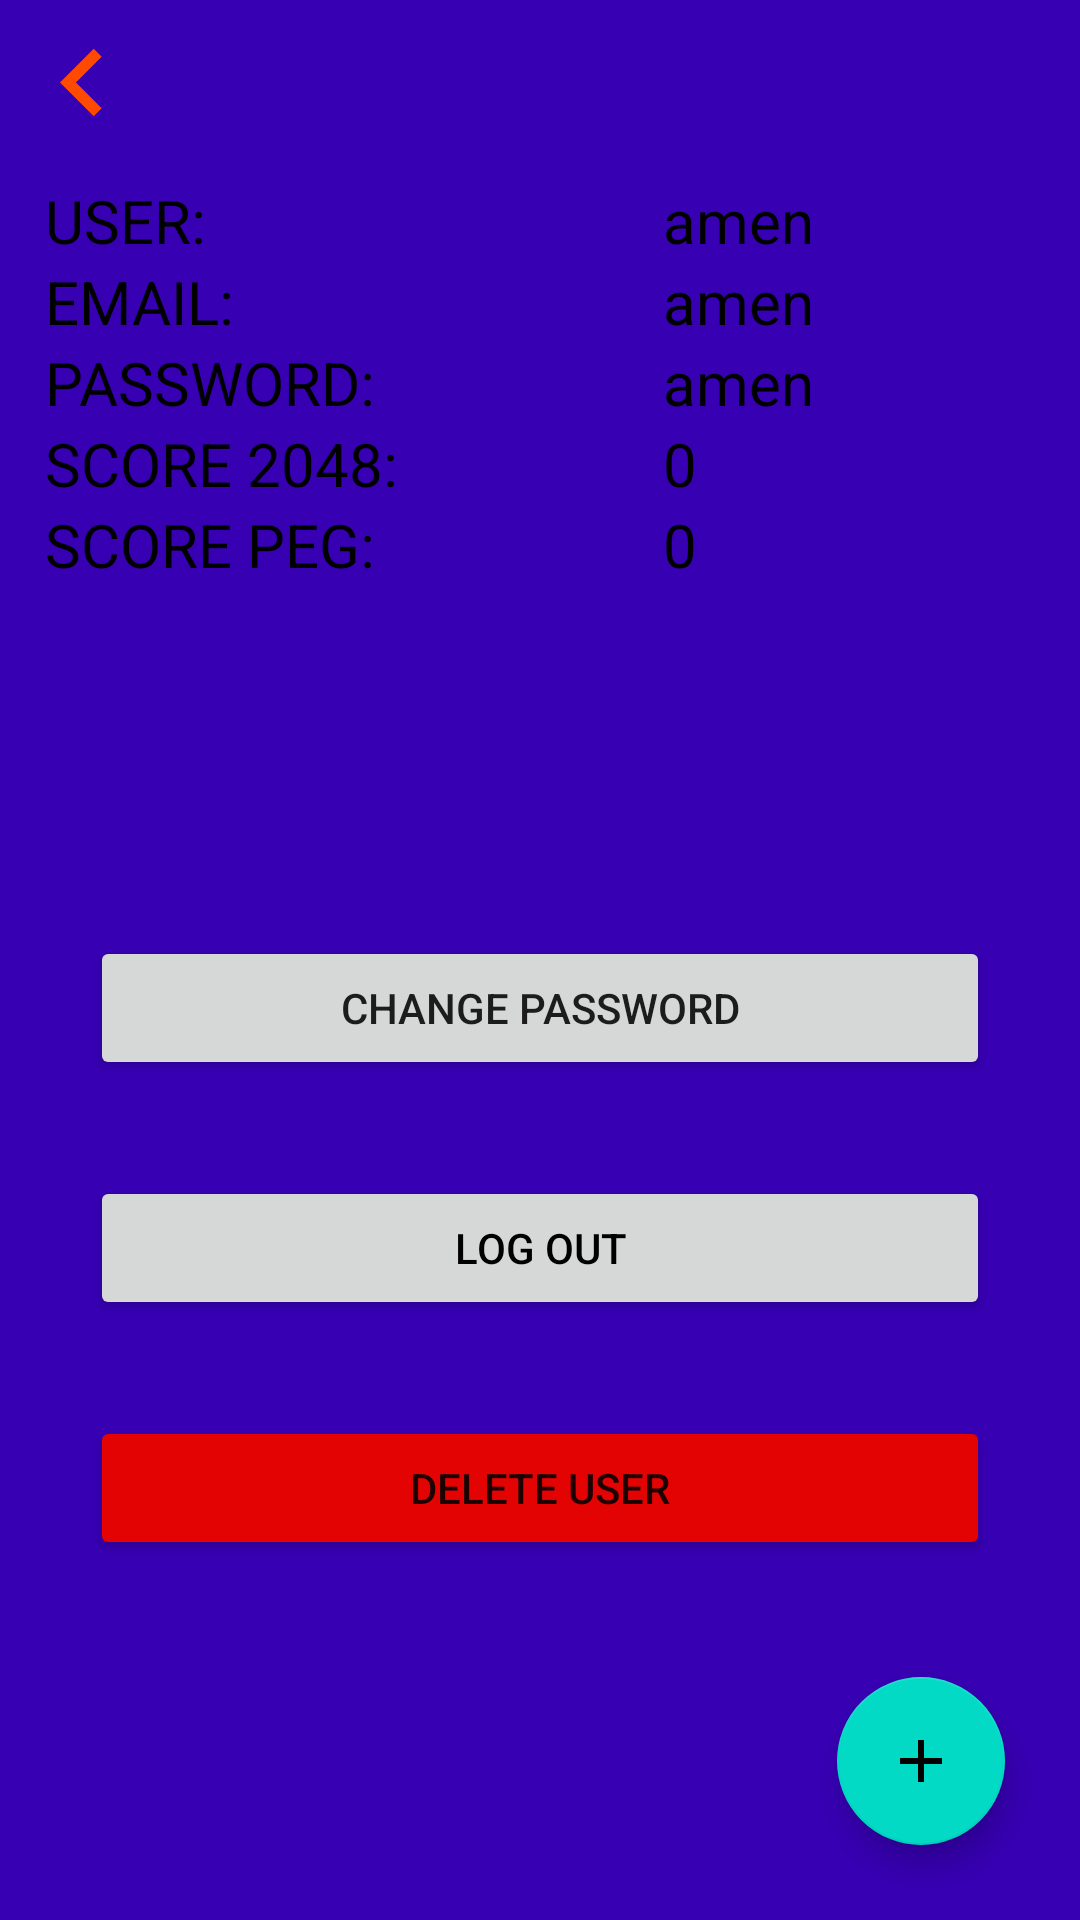

Locate icon controls on the screen. Image size 1080*1920, boxes as (x1, y1, x2, y2).
add: (837, 1677, 1005, 1845)
keyboard arrow left: (60, 49, 102, 116)
